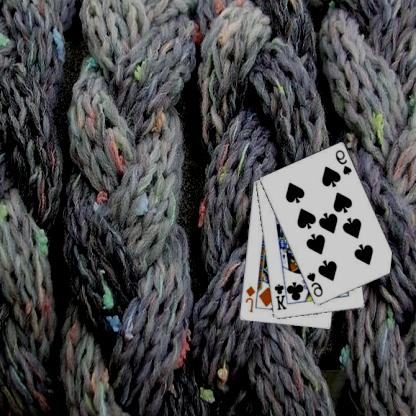9S: (305, 270, 326, 299), (334, 147, 354, 176)
JD: (244, 283, 258, 314)
KC: (273, 278, 291, 311)
